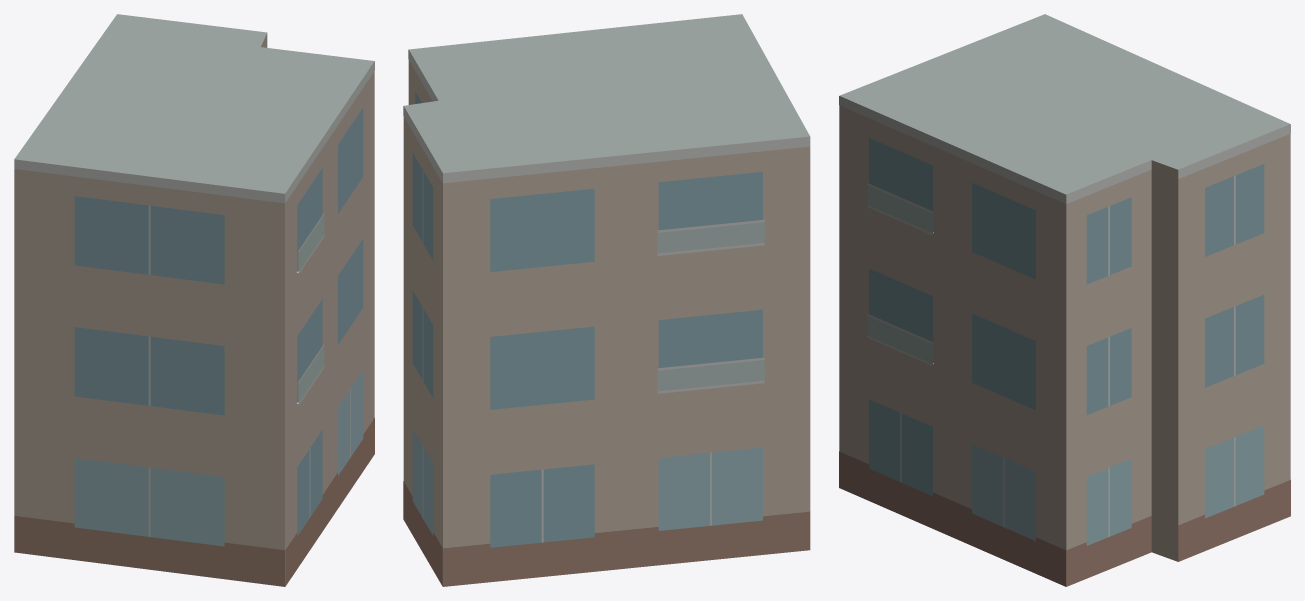
The model's file is survey-upis-32503687.glb.
3 renders of one model, left to right at view 1: azimuth 30°, elevation 25°; view 2: azimuth 150°, elevation 25°; view 3: azimuth 270°, elevation 25°, orthographic. The views are drawn at different scales.
Parts seen in each view (by area): view 1: survey-upis-32503687.tmp; view 2: survey-upis-32503687.tmp; view 3: survey-upis-32503687.tmp.
Part boxes in pixels (x1=…): survey-upis-32503687.tmp: x1=14, y1=14, x2=374, y2=586; survey-upis-32503687.tmp: x1=403, y1=14, x2=810, y2=586; survey-upis-32503687.tmp: x1=839, y1=14, x2=1290, y2=586.
Bounding box in the file's own units: 9.99 × 10.1 × 10.55.
